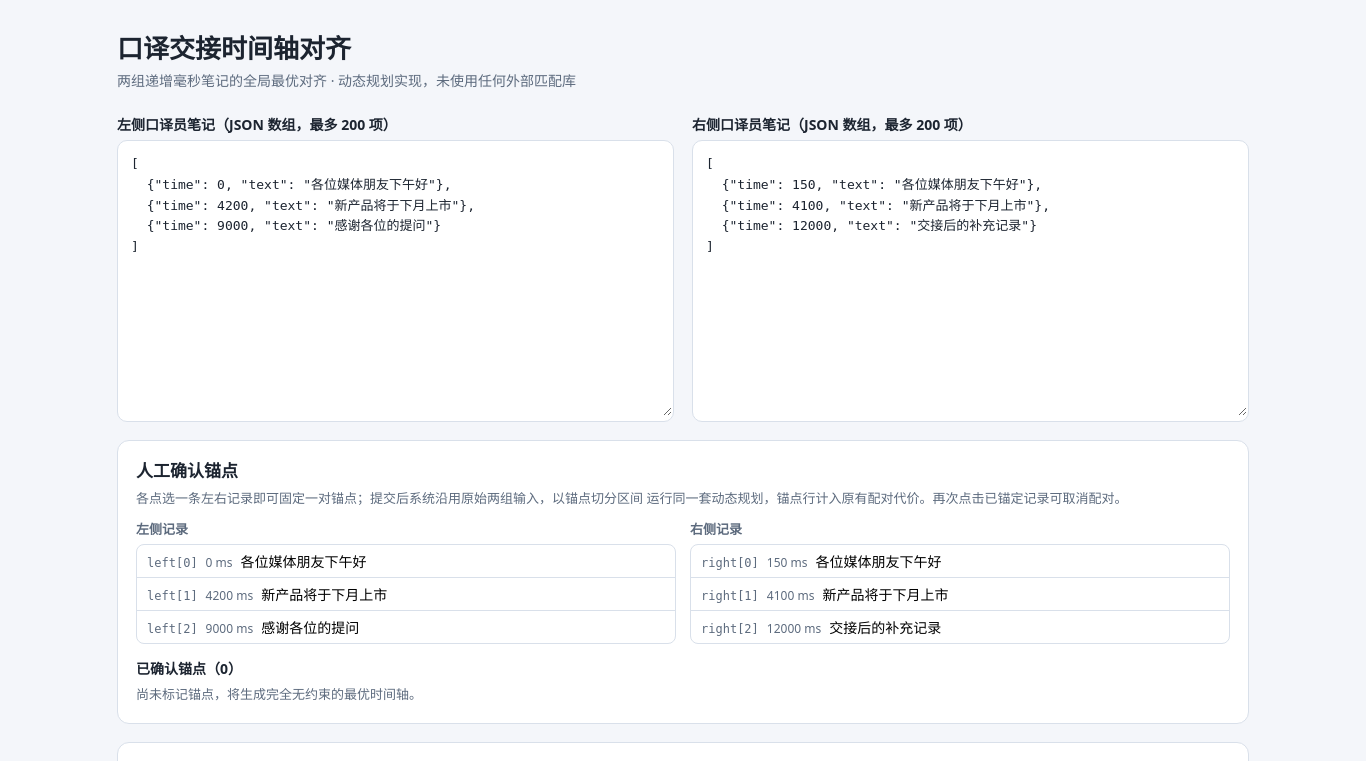
App › pins a pair by clicking one record on each side and lists it
This screenshot has width=1366, height=761.
Click the button with test id "pick-left-1" at (324, 594), box 137,578 -> 675,611
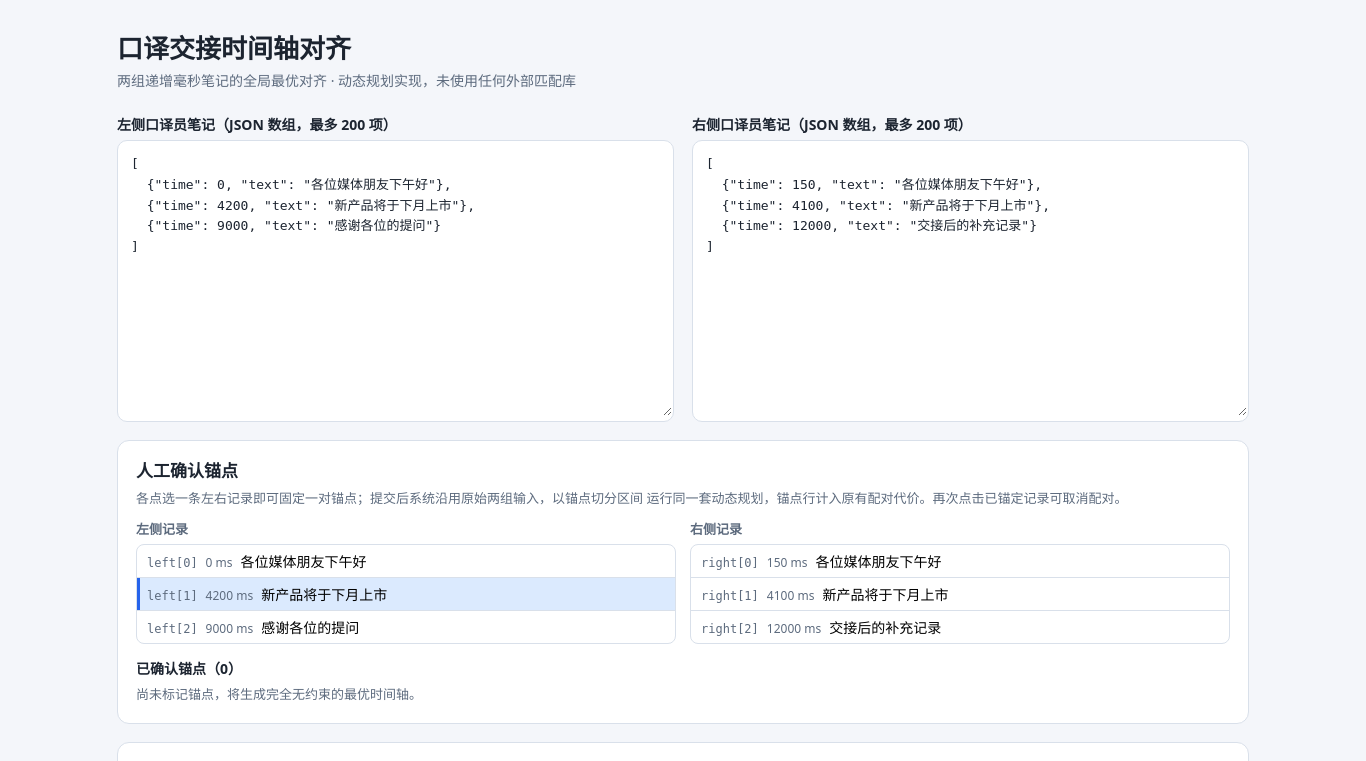
Click the button with test id "pick-right-1" at (719, 596), box 691,578 -> 1229,611
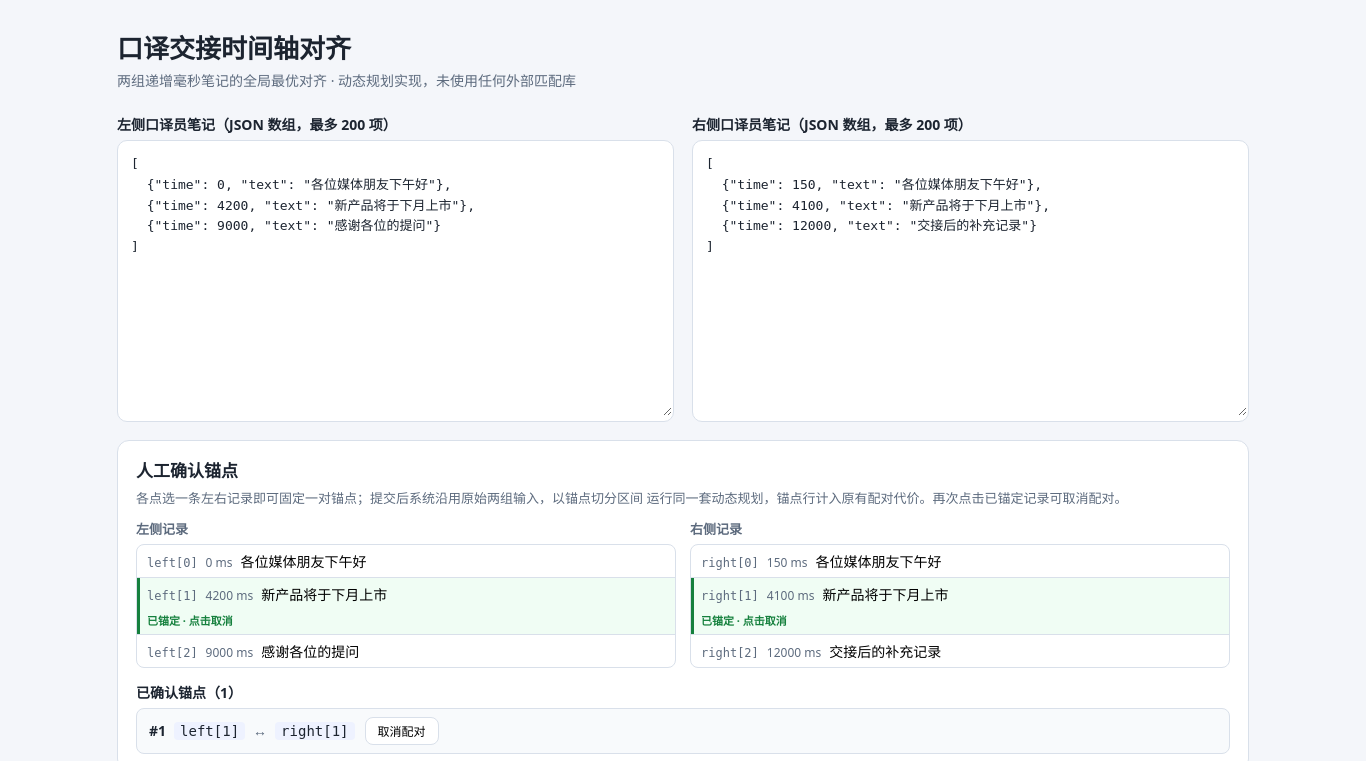
Expected: the list item with test id "anchor-item" shows "left[1]", 136,708 -> 1230,754
Expected: the list item with test id "anchor-item" shows "right[1]", 136,708 -> 1230,754
